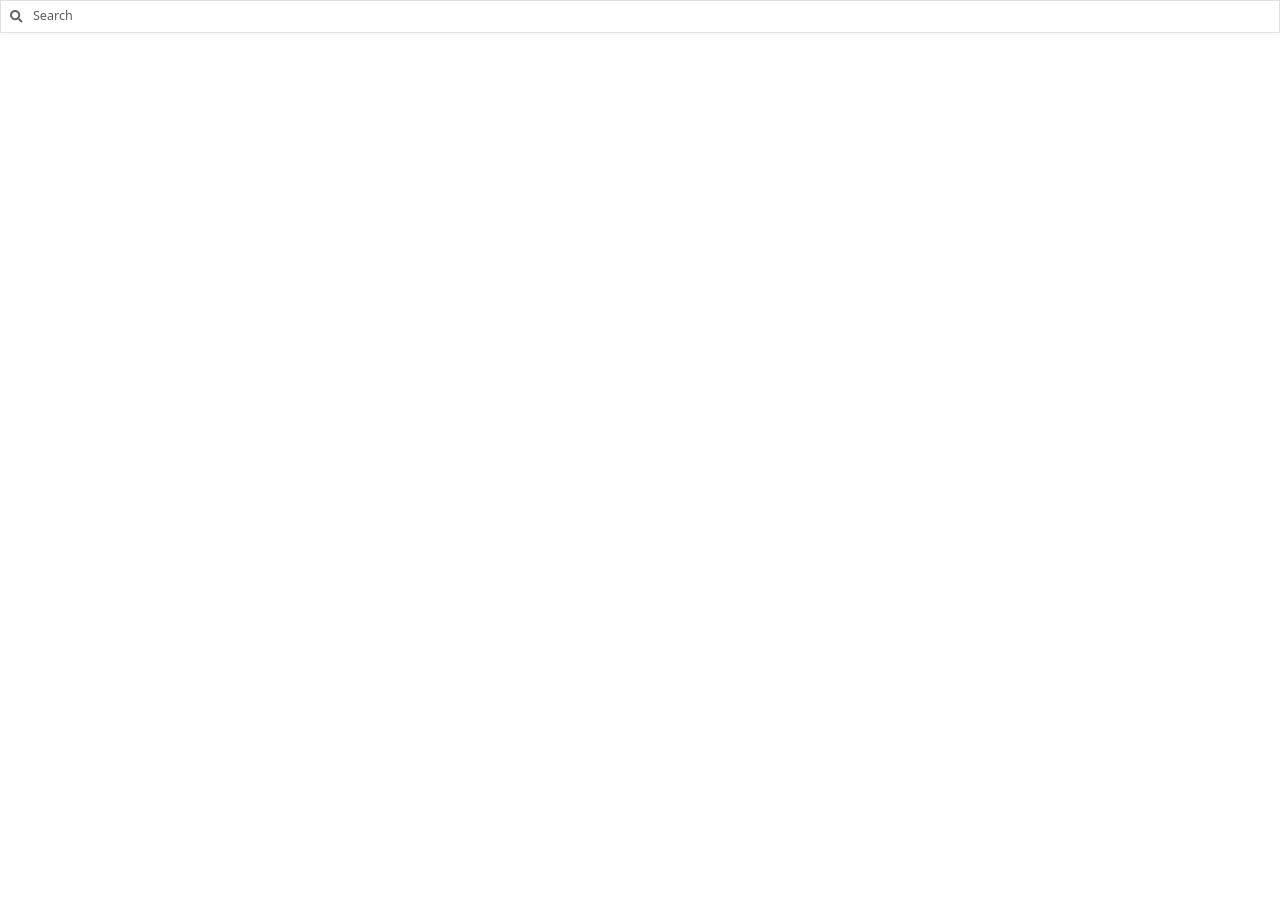
Test case: renders profile results before thumbnail metadata finishes
Type "rome" into the search field named "Search profiles, clubs, events, and sources". click: (655, 16)
box: [32,1,1279,32]
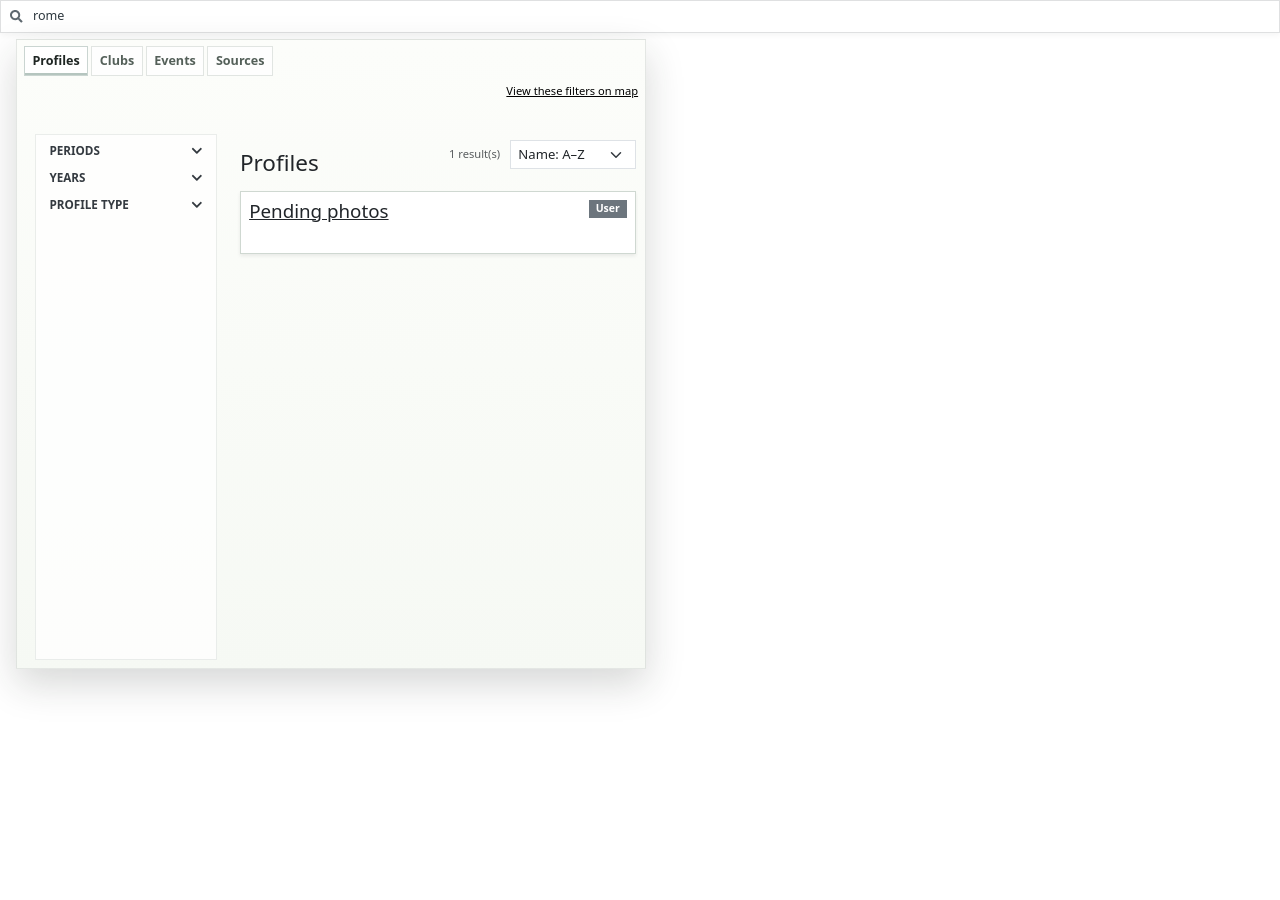
Now the link "Pending photos" is shown, box [249,198,388,223]
